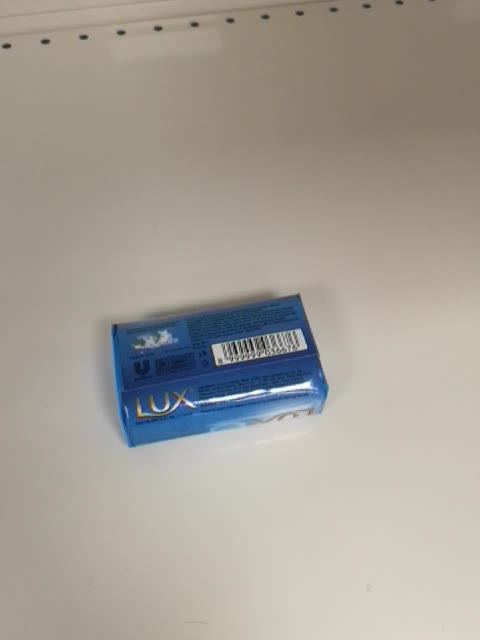soap: (109, 292, 330, 448)
